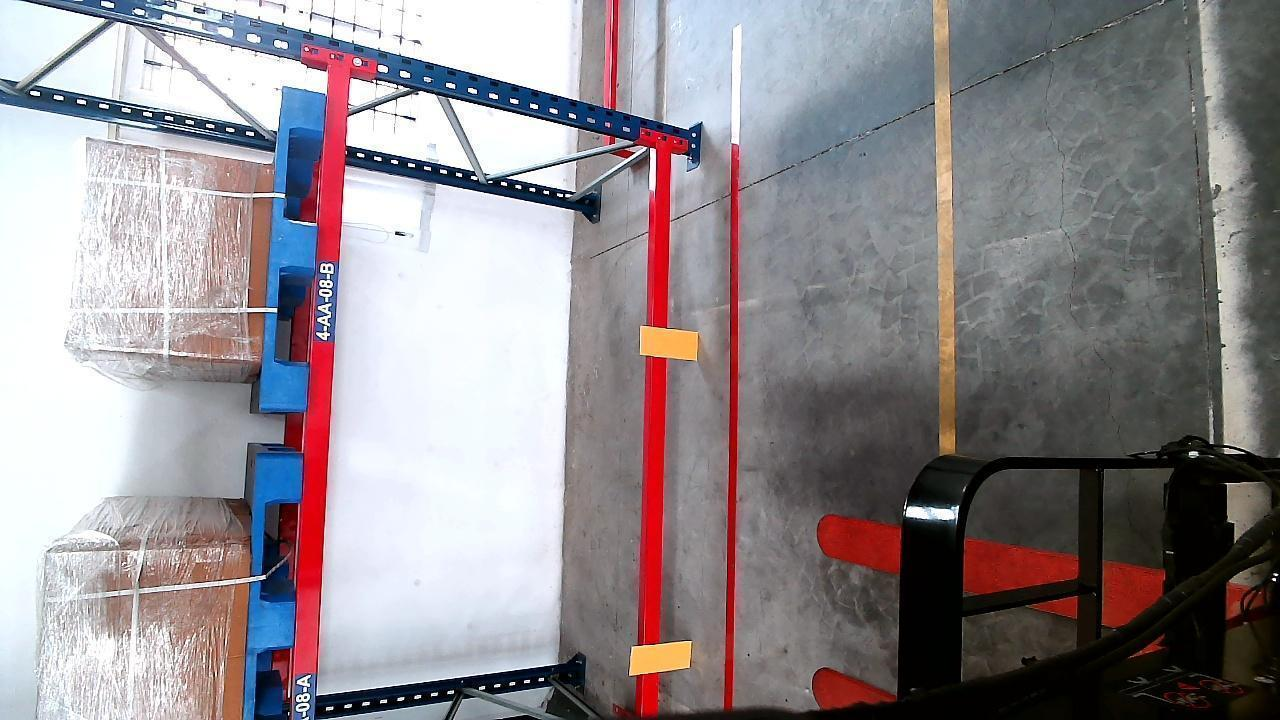red_line: (722, 25, 744, 707)
